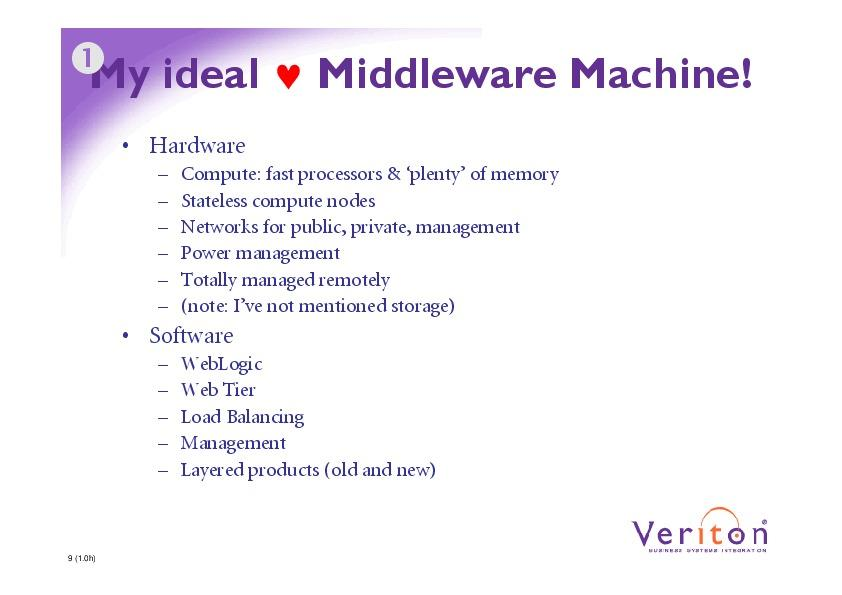paragraph: (116, 125, 593, 533)
subtitle: (141, 134, 256, 159), (142, 323, 240, 350)
title: (75, 37, 767, 104)
